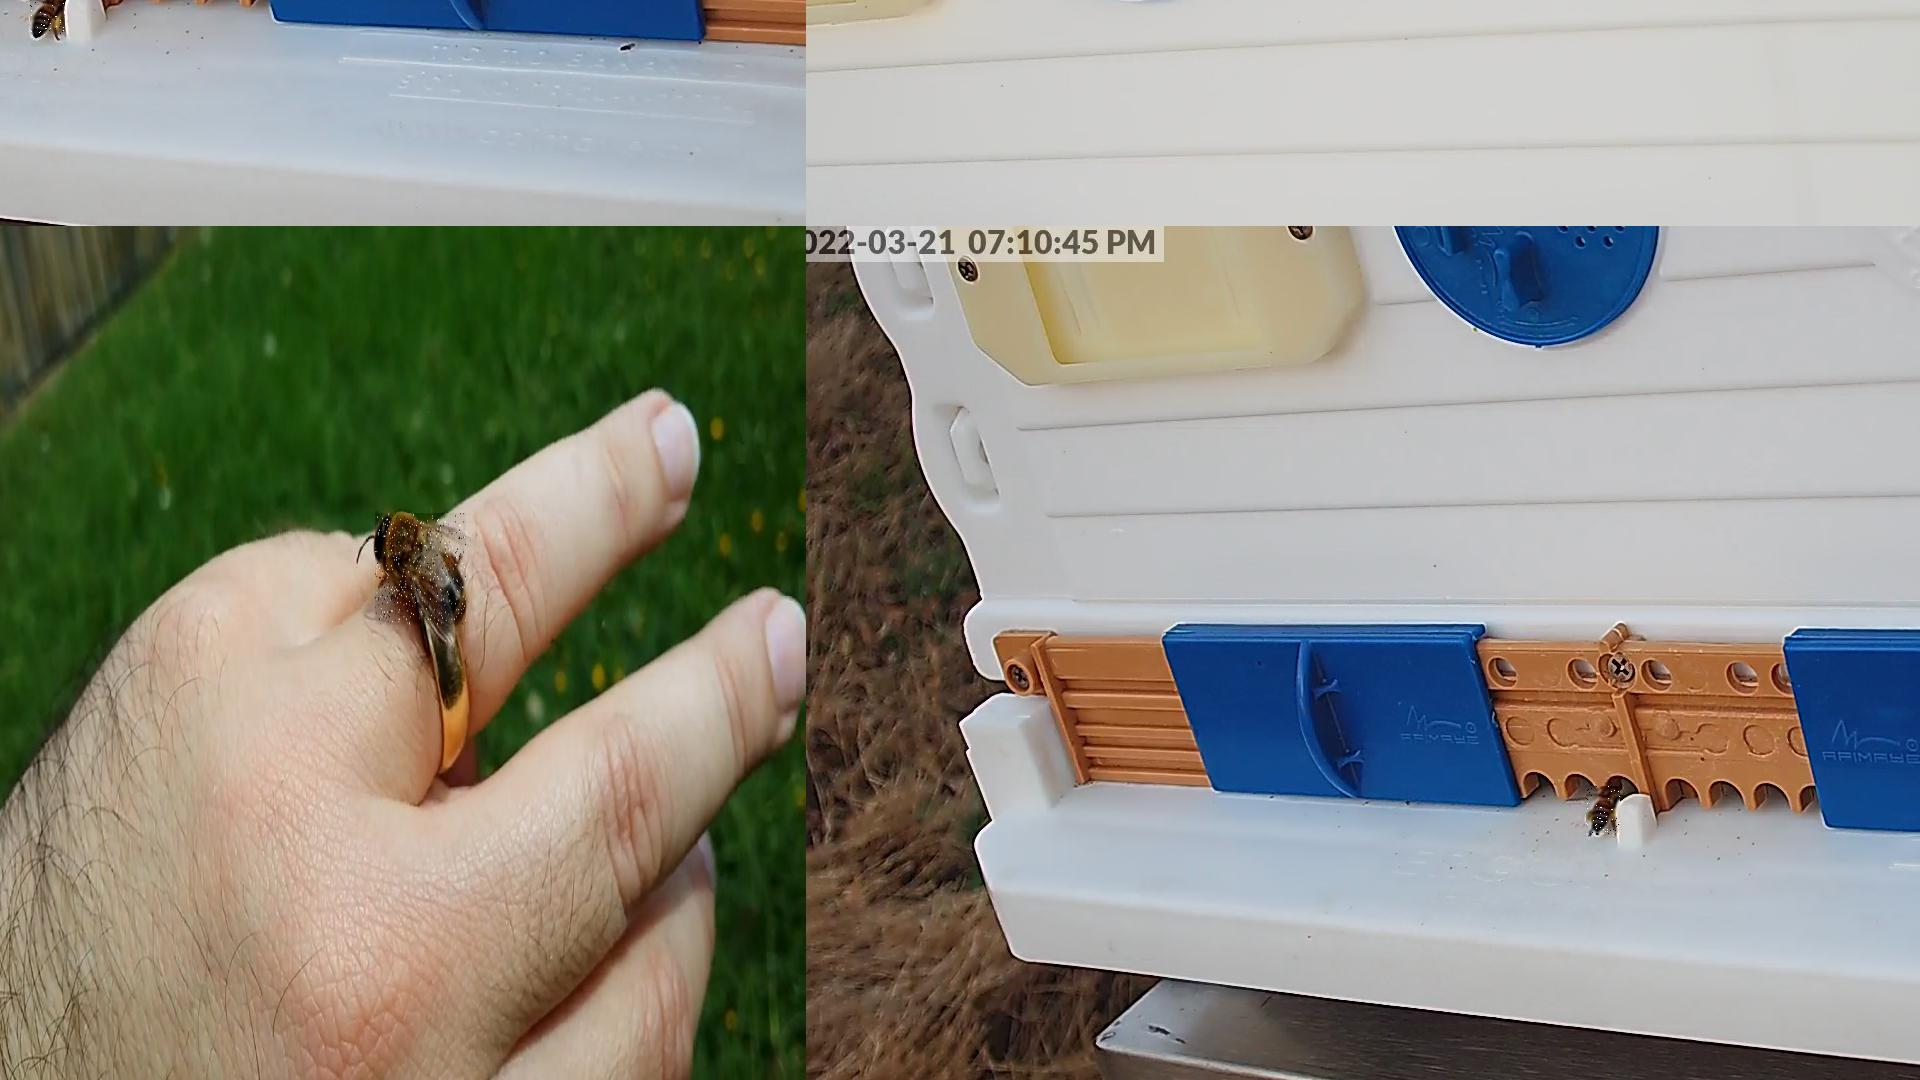drone: (375, 513, 467, 626)
pollenbee: (1586, 787, 1621, 836), (30, 0, 66, 37)
